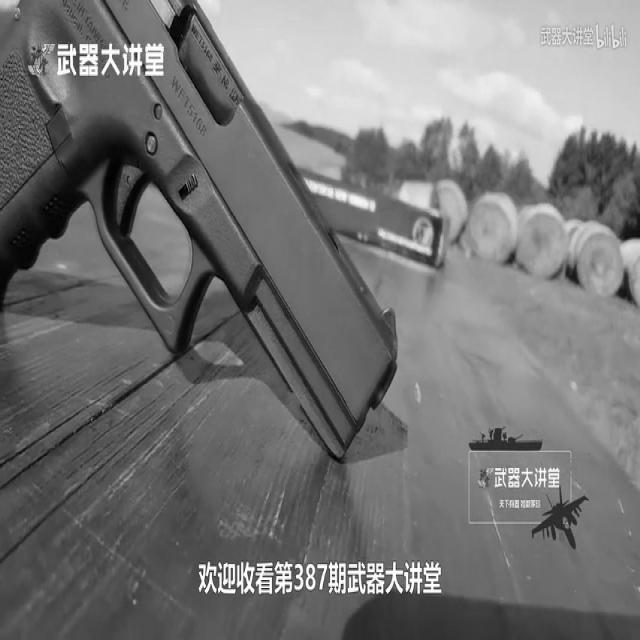Hand-Gun: (0, 0, 429, 510)
